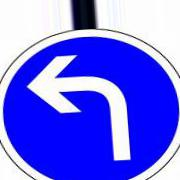left: (1, 29, 180, 180)
